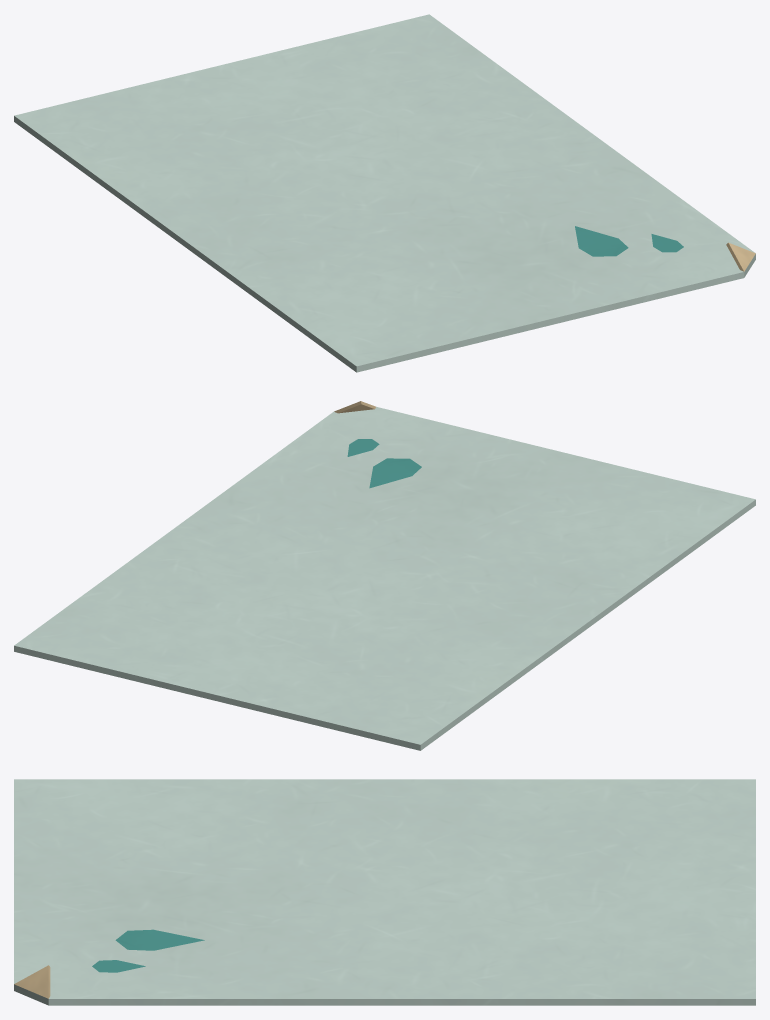
File: paper_wet.glb
3 views of the same model, one above another, from view 1: azimuth 30°, elevation 25°; view 2: azimuth 150°, elevation 25°; view 3: azimuth 270°, elevation 25° (orthographic). The views are drawn at different scales.
Visible parts, largest first — view 1: paper_wet__paper_body, paper_wet__water_drop_mark; view 2: paper_wet__paper_body, paper_wet__water_drop_mark; view 3: paper_wet__paper_body, paper_wet__water_drop_mark, paper_wet__folded_corner, paper_wet__water_drop_mark.001.
Boxes of the visible parts, <box> form: paper_wet__paper_body: <box>14,14,755,372</box>; paper_wet__water_drop_mark: <box>575,226,628,256</box>; paper_wet__paper_body: <box>14,407,755,750</box>; paper_wet__water_drop_mark: <box>369,458,421,488</box>; paper_wet__paper_body: <box>14,779,755,1005</box>; paper_wet__water_drop_mark: <box>115,929,204,950</box>; paper_wet__folded_corner: <box>14,965,50,998</box>; paper_wet__water_drop_mark.001: <box>92,960,145,972</box>.
Size of the model in its own units: 0.42 by 0.023 by 0.6.
3 materials, 3 textured.
